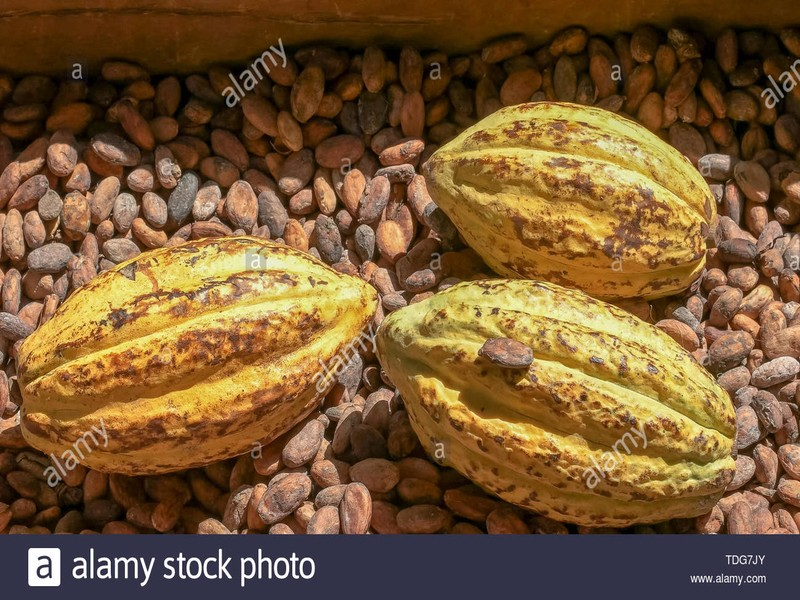Cacaopod: (10, 234, 381, 476), (384, 279, 737, 527)
